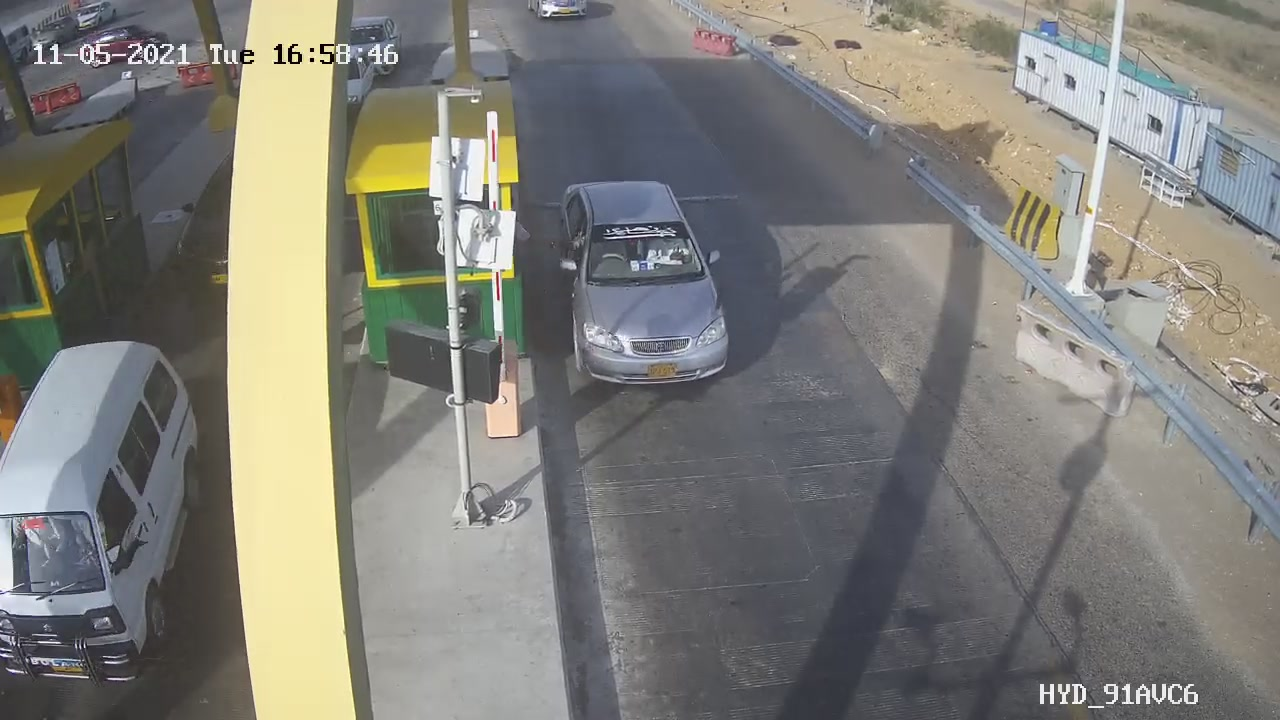F1: (539, 161, 753, 412)
